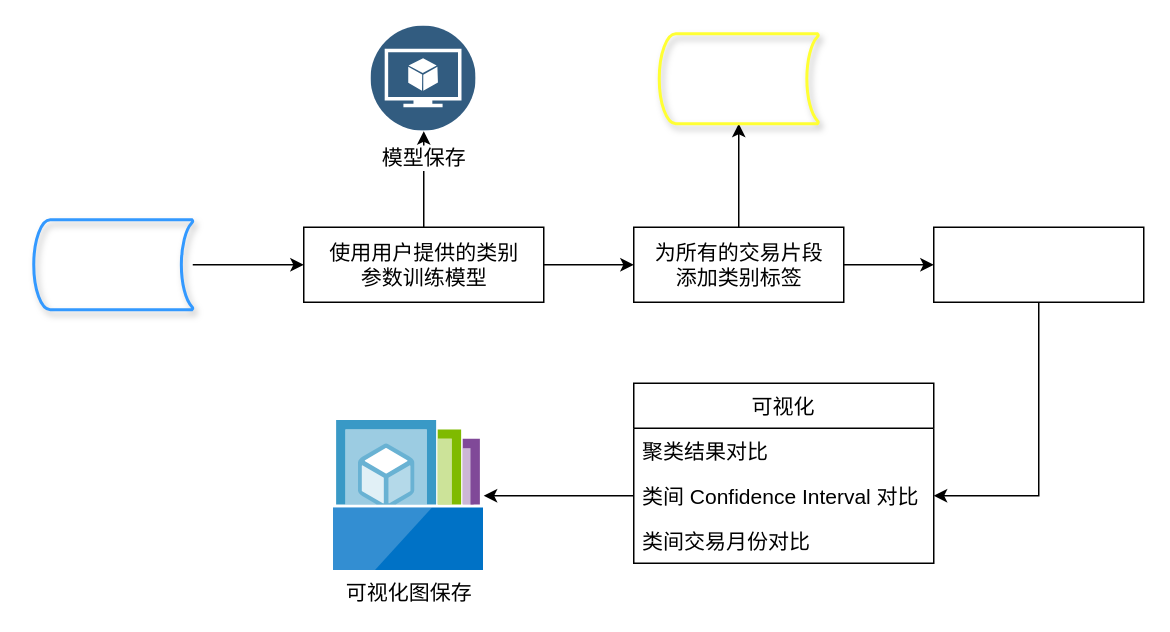
The diagram is 1170 pixels wide and 632 high, and some of its shapes have lost their labels. Here are the shapes that lost their labels. From the top down, the centre of each, then its label:
point 739,80: 训练数据保存
point 114,266: 构建的特征数据集
point 1038,264: 计算类内各特征的 Confidence Interval
